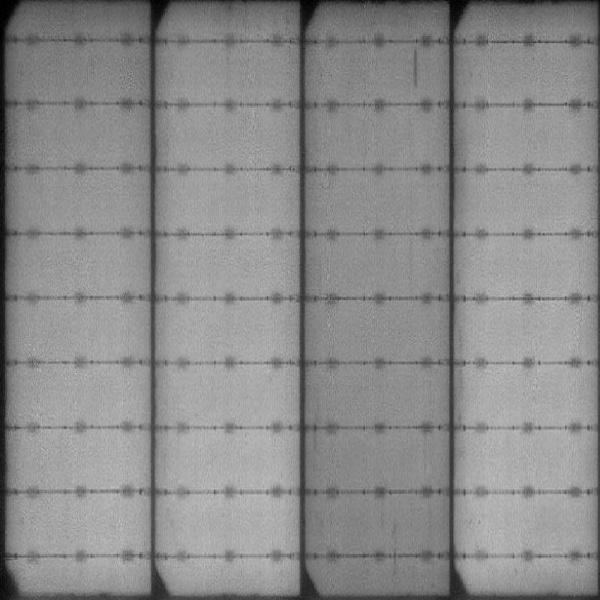scratch: (410, 43, 422, 92)
